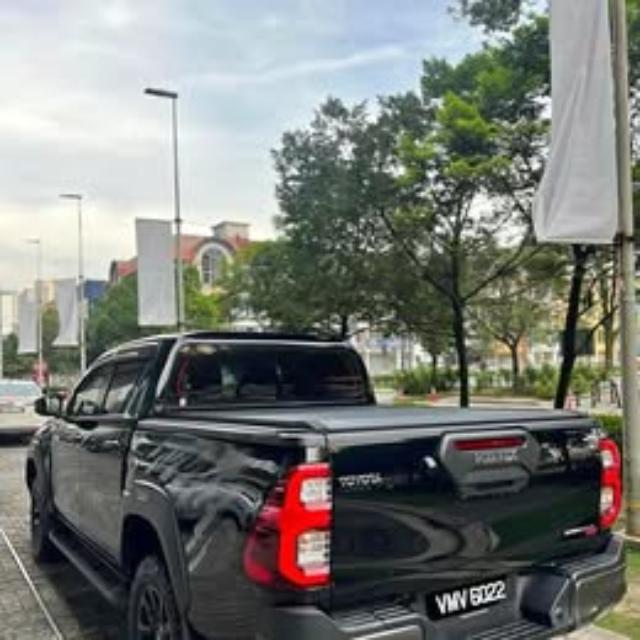License_Plate: (422, 575, 510, 621)
car: (24, 328, 629, 638)
